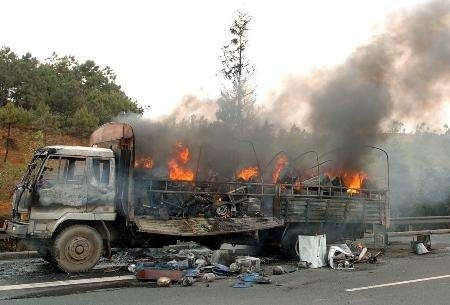fire: (144, 140, 198, 182), (231, 155, 290, 181), (326, 164, 366, 195), (235, 162, 259, 180)
